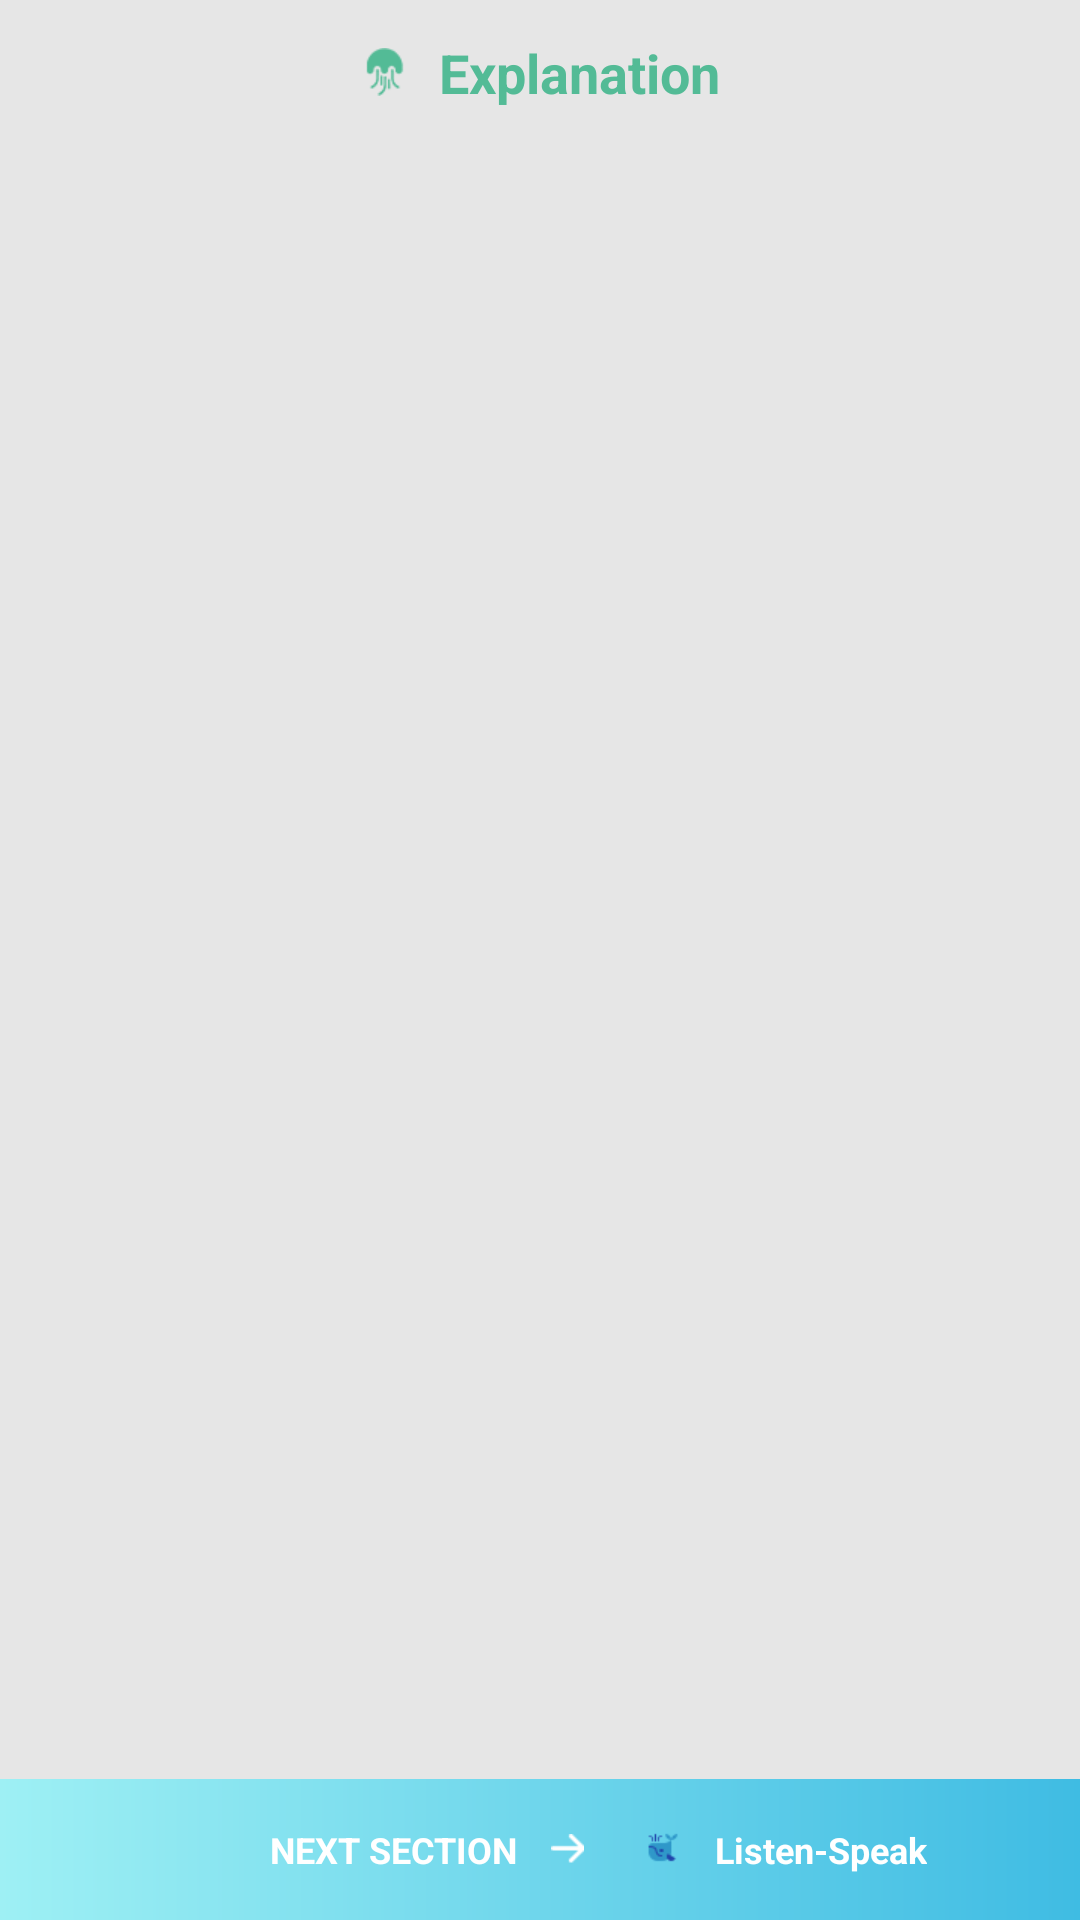

Icons on this 1080x1920 Android screen, each with its box as Rect(x1, y1, x2, y2):
explannationpage next: Rect(551, 1834, 584, 1863)
